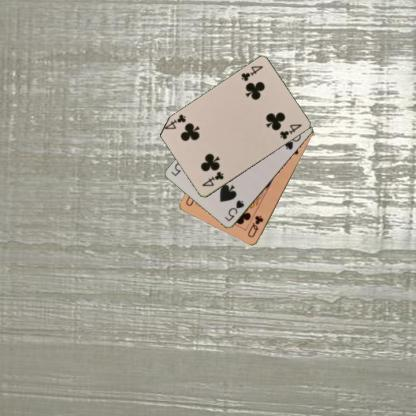4c: (200, 168, 226, 187), (238, 63, 264, 82)
5s: (222, 198, 245, 223)
Qc: (245, 213, 265, 239)
